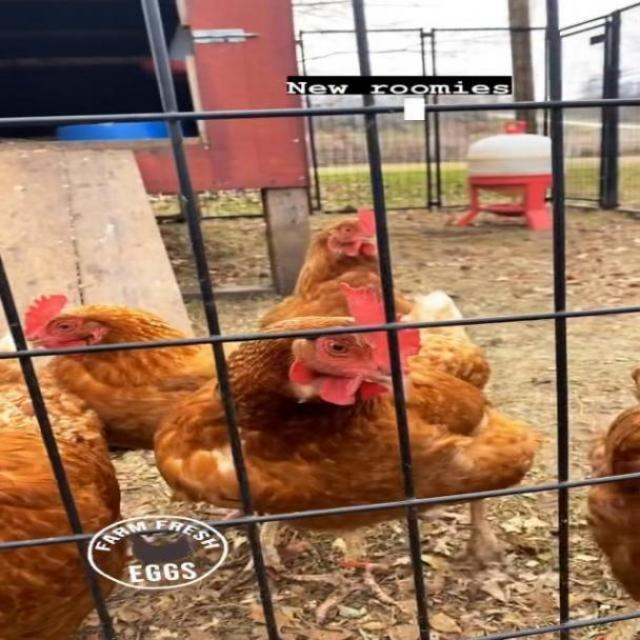Chicken: (150, 273, 542, 620), (0, 347, 126, 639), (10, 293, 228, 447), (257, 207, 415, 322), (585, 362, 640, 609)
